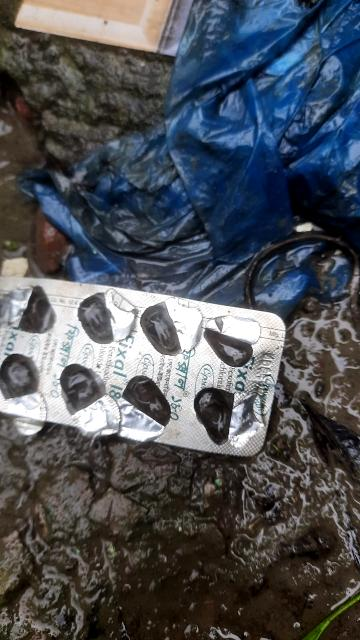medicine: (1, 275, 287, 461)
